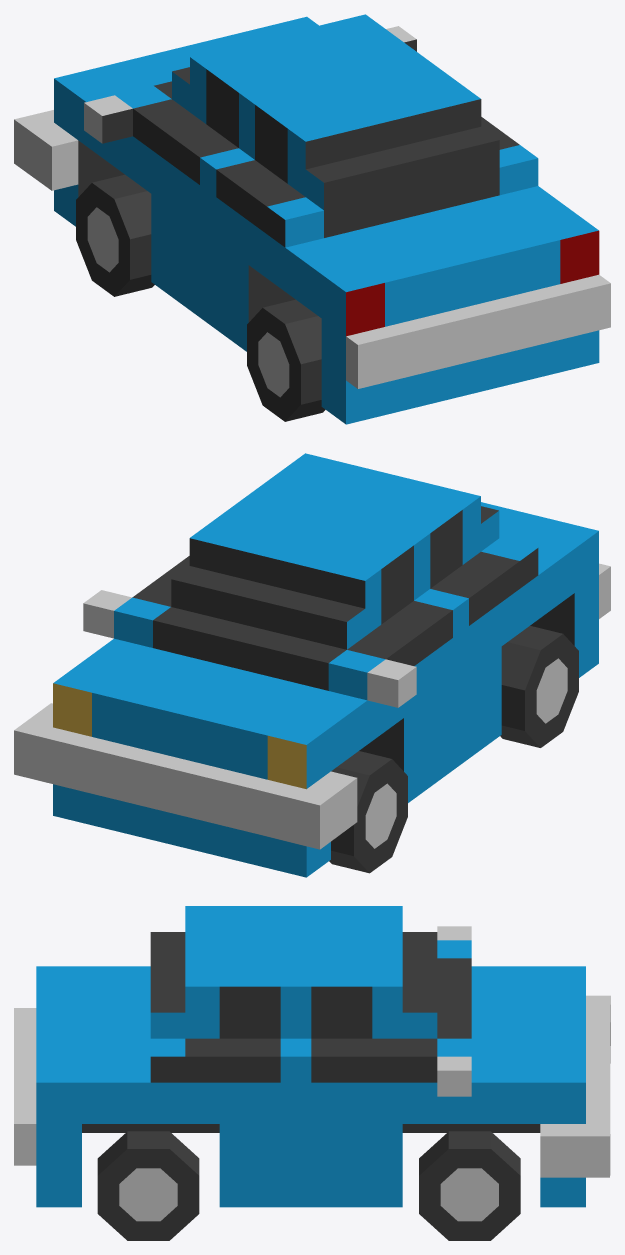
Rendered from Car1_01.FBX.
The picture shows the model from 3 angles, top to bottom: view 1: azimuth 30°, elevation 25°; view 2: azimuth 150°, elevation 25°; view 3: azimuth 270°, elevation 25°; orthographic projection. The views are drawn at different scales.
Visible parts, largest first — view 1: Car1_Body_1_01, Car1_Wheels_F_02, Car1_Wheels_B_02; view 2: Car1_Body_1_01, Car1_Wheels_B_02, Car1_Wheels_F_02; view 3: Car1_Body_1_01, Car1_Wheels_B_01, Car1_Wheels_F_01.
Part boxes in pixels (x1=…): Car1_Body_1_01: x1=14, y1=14, x2=610, y2=424; Car1_Wheels_F_02: x1=76, y1=174, x2=154, y2=296; Car1_Wheels_B_02: x1=247, y1=299, x2=325, y2=421; Car1_Body_1_01: x1=14, y1=453, x2=610, y2=877; Car1_Wheels_B_02: x1=500, y1=626, x2=578, y2=747; Car1_Wheels_F_02: x1=329, y1=751, x2=407, y2=873; Car1_Body_1_01: x1=14, y1=906, x2=610, y2=1207; Car1_Wheels_B_01: x1=97, y1=1131, x2=199, y2=1240; Car1_Wheels_F_01: x1=419, y1=1131, x2=520, y2=1240.
Size of the model in its own units: 24.87 by 18.52 by 43.43.
